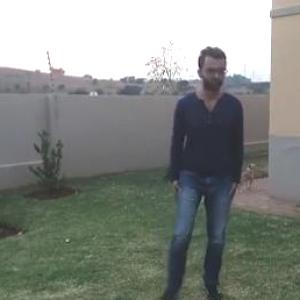follow: (151, 38, 247, 299)
